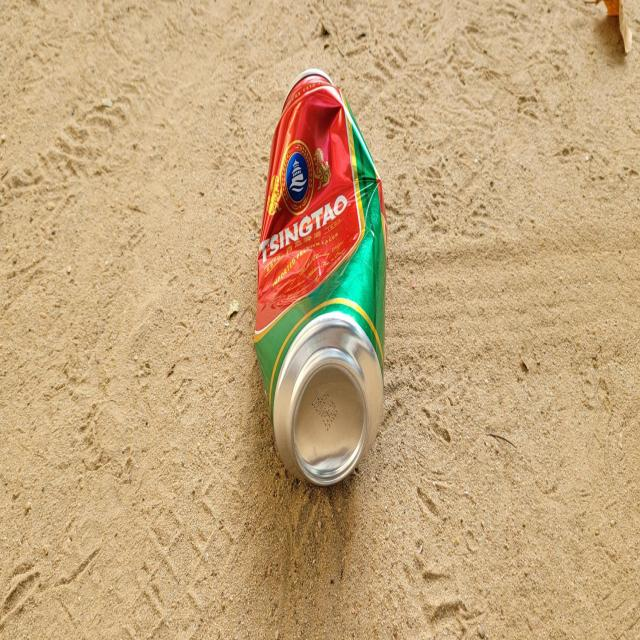can: (254, 67, 387, 484)
